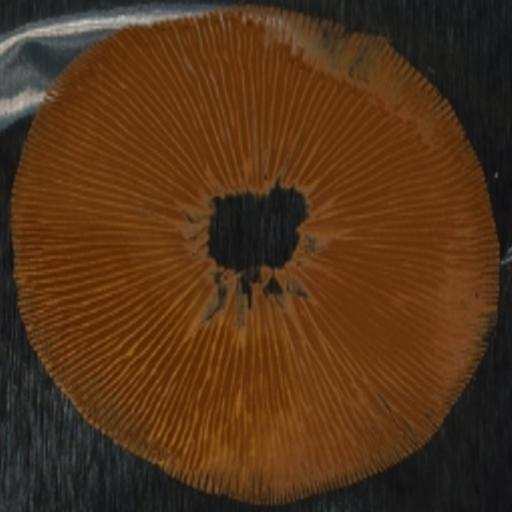mushroom: (14, 6, 498, 508)
